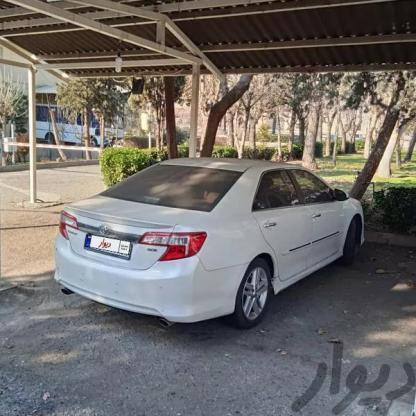Bus: (14, 88, 129, 146)
Car: (51, 152, 375, 331)
